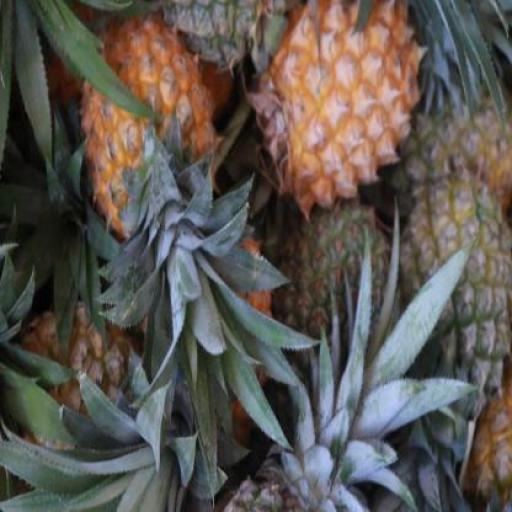------------------------------: (400, 177, 511, 420)
Pineapple - v8 v1: (258, 1, 418, 217), (78, 15, 216, 234)
